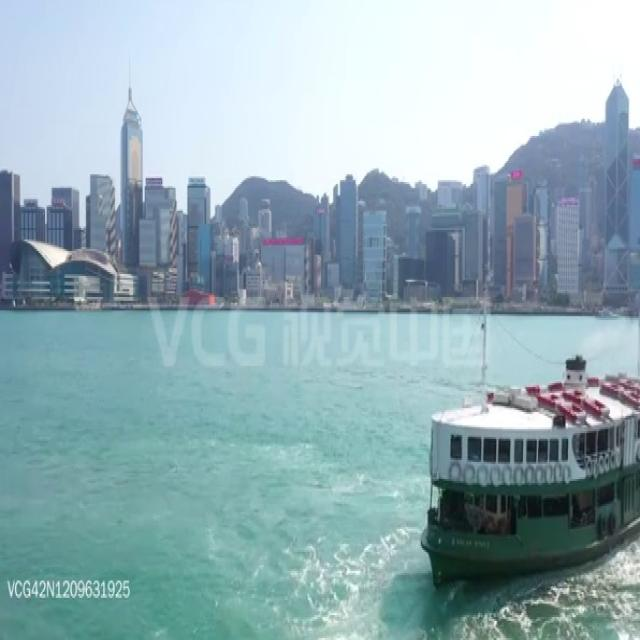passenger ship: (422, 304, 640, 578)
